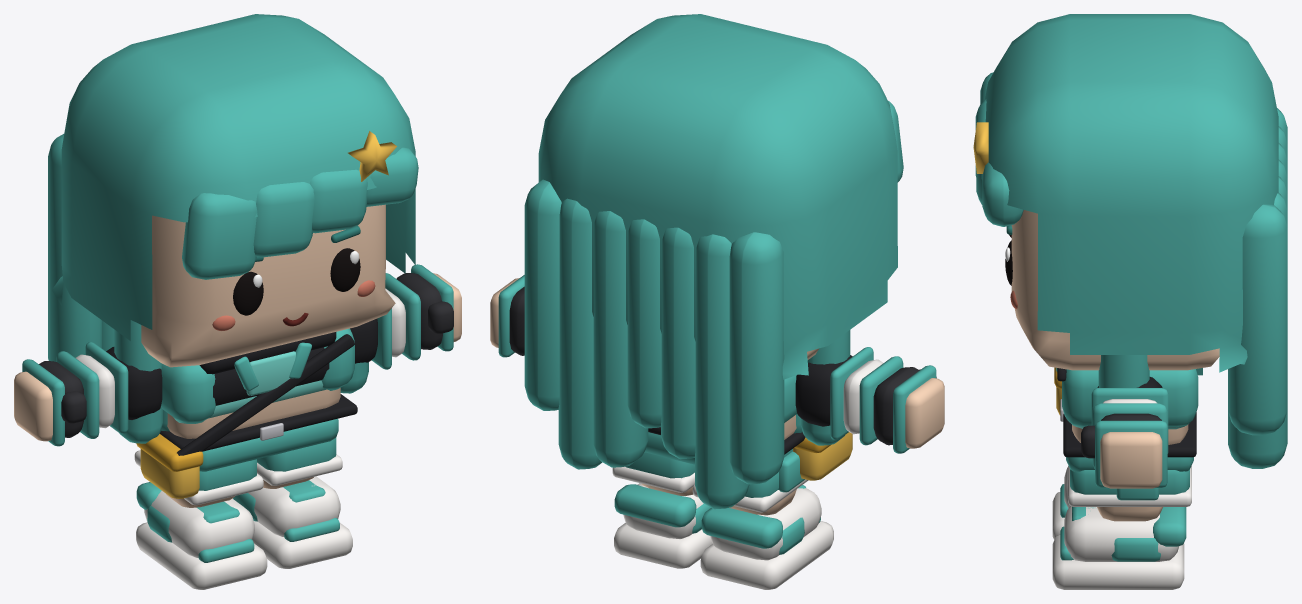
File: nami_chibi_v02.glb
3 views of the same model, side by side, from view 1: azimuth 30°, elevation 25°; view 2: azimuth 150°, elevation 25°; view 3: azimuth 270°, elevation 25° (orthographic).
Parts seen in each view (by area): view 1: Hair_Cap, Head, Hair_Bangs, Shoe_R, Hair_Long, Shorts, Shoe_L, Arm_R, Jacket, Hand_R, Arm_L, Hand_L (+8 smaller); view 2: Hair_Cap, Hair_Long, Shoe_R, Shoe_L, Arm_R, Hand_R, Shorts, Hand_L, Bag; view 3: Hair_Cap, Hair_Long, Shoe_L, Hand_L, Head, Shorts, Jacket, Arm_L, Hair_Bangs, Belt, Leg_L, Shoe_R (+1 smaller).
Part boxes in pixels (left/top/right/bottom): Hair_Cap: left=52, top=14, right=415, bottom=340; Head: left=141, top=204, right=395, bottom=367; Hair_Bangs: left=182, top=147, right=418, bottom=279; Shoe_R: left=136, top=482, right=267, bottom=589; Hair_Long: left=48, top=134, right=368, bottom=443; Shorts: left=134, top=418, right=342, bottom=505; Shoe_L: left=232, top=476, right=352, bottom=568; Arm_R: left=56, top=342, right=162, bottom=438; Jacket: left=161, top=328, right=354, bottom=423; Hand_R: left=14, top=359, right=86, bottom=446; Arm_L: left=350, top=273, right=420, bottom=369; Hand_L: left=396, top=264, right=461, bottom=351; Hair_Cap: left=538, top=14, right=897, bottom=379; Hair_Long: left=524, top=179, right=850, bottom=509; Shoe_R: left=700, top=485, right=833, bottom=589; Shoe_L: left=614, top=483, right=712, bottom=568; Arm_R: left=795, top=347, right=903, bottom=445; Hand_R: left=873, top=365, right=944, bottom=453; Shorts: left=612, top=432, right=808, bottom=512; Hand_L: left=490, top=275, right=524, bottom=357; Bag: left=793, top=432, right=852, bottom=480; Hair_Cap: left=981, top=14, right=1278, bottom=372; Hair_Long: left=1098, top=108, right=1287, bottom=468; Shoe_L: left=1052, top=506, right=1186, bottom=589; Hand_L: left=1081, top=413, right=1167, bottom=488; Head: left=1011, top=210, right=1219, bottom=370; Shorts: left=1066, top=457, right=1193, bottom=506; Jacket: left=1062, top=368, right=1202, bottom=427; Arm_L: left=1091, top=377, right=1168, bottom=468; Hair_Bangs: left=975, top=72, right=1023, bottom=226; Belt: left=1060, top=399, right=1196, bottom=457; Leg_L: left=1097, top=507, right=1162, bottom=521; Shoe_R: left=1052, top=467, right=1070, bottom=539.
Size of the model in its own units: 0.5873 by 0.6523 by 0.3688.
